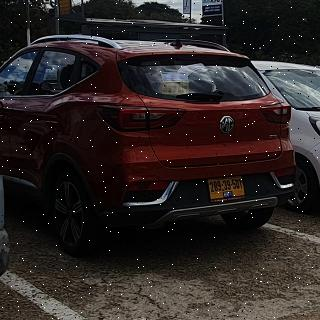LicensePlate: (208, 176, 244, 193)
